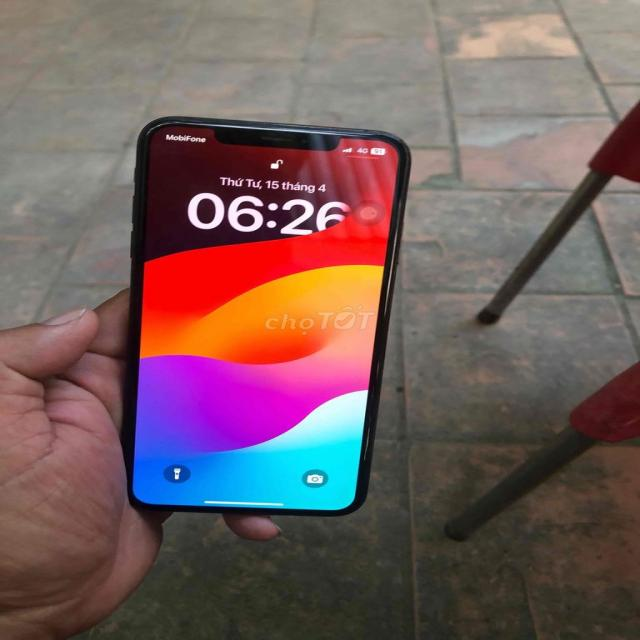gen_x_xs: (124, 118, 408, 515)
